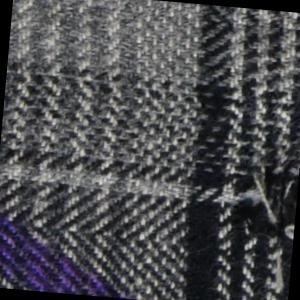Damage: (215, 142, 300, 280)
Stain: (1, 198, 145, 300)
